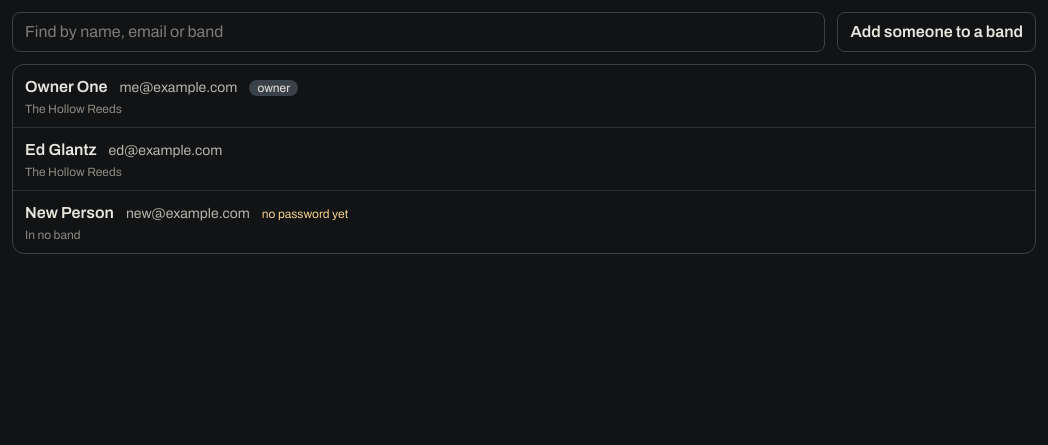
Test: OwnerPeople › adds someone to a band ({"invited":true})
The width and height of the screenshot is (1048, 445).
Click the button "Add someone to a band" at (937, 32), box 837,12 -> 1036,52
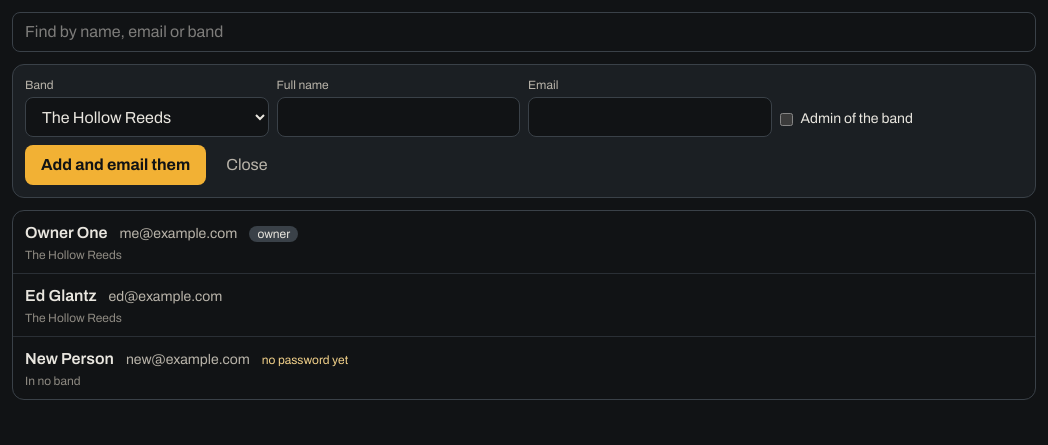
Select "Riverside" in the dropdown labelled "Band" at (147, 117), box 25,97 -> 268,137
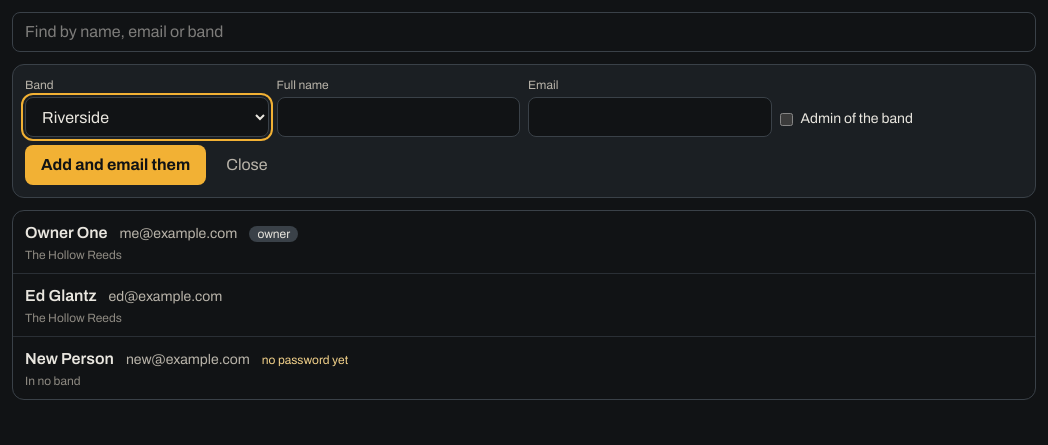
Type "New" into the field labelled "Full name" at (398, 117), box 276,97 -> 520,137
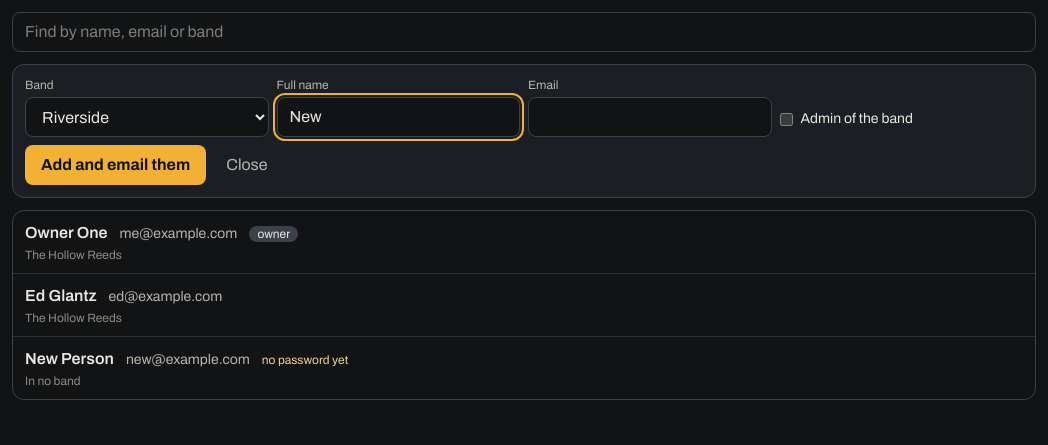
Type "new@x.com" into the field labelled "Email" at (650, 117), box 528,97 -> 772,137
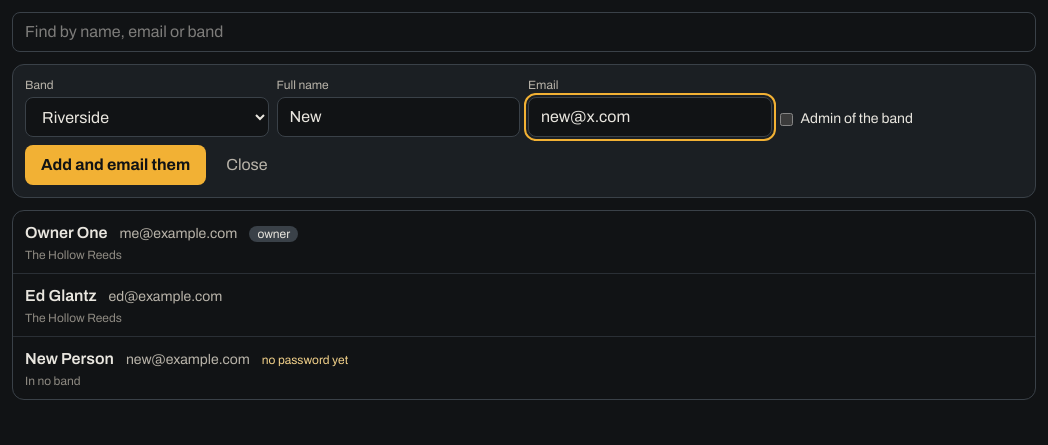
Click the checkbox labelled "Admin of the band" at (786, 119), box 780,112 -> 792,126
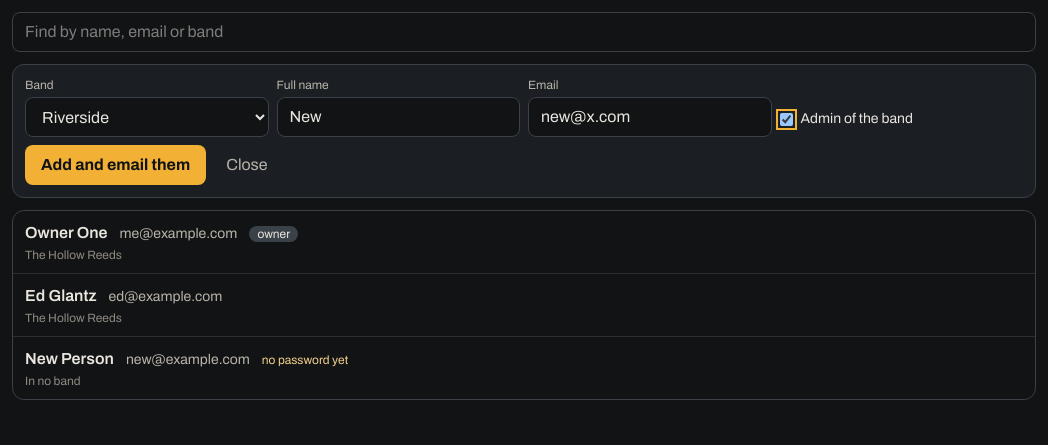
Click the button "Add and email them" at (116, 165), box 25,145 -> 206,185
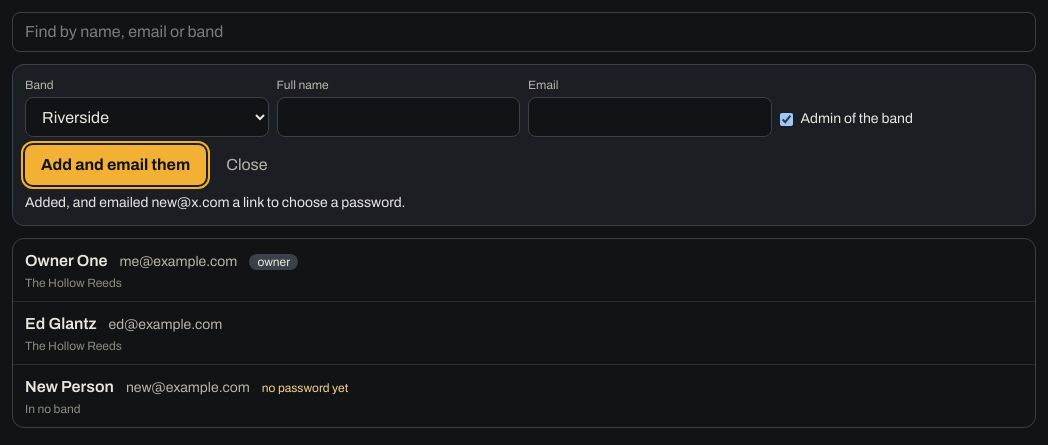
Result: the message reads "Added, and emailed new@x.com a link to choose a password." at 25,195 -> 406,210
